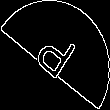P_SW: (29, 24, 81, 86)
